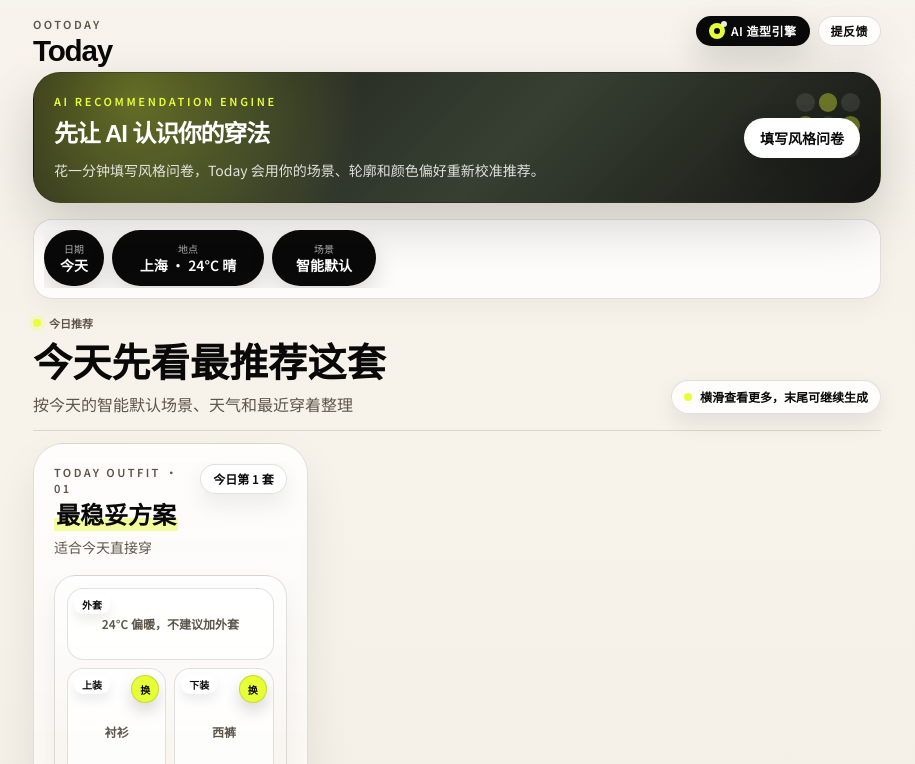
Test: TodayPage › refreshes recommendations for tomorrow without a page refresh
The image size is (915, 764).
Expected: the text "今日推荐" is shown, [33,315,93,331]
Click the button with aria-label "日期：今天": (74, 258) [44,230,104,286]
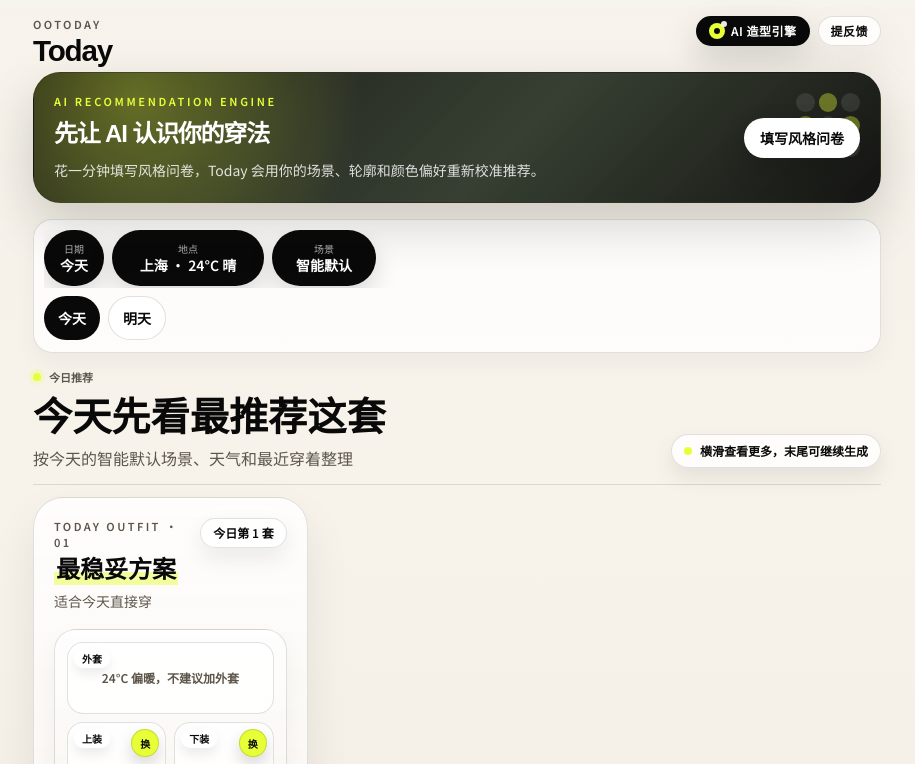
Click the button "明天": (137, 318) [108,296,166,340]
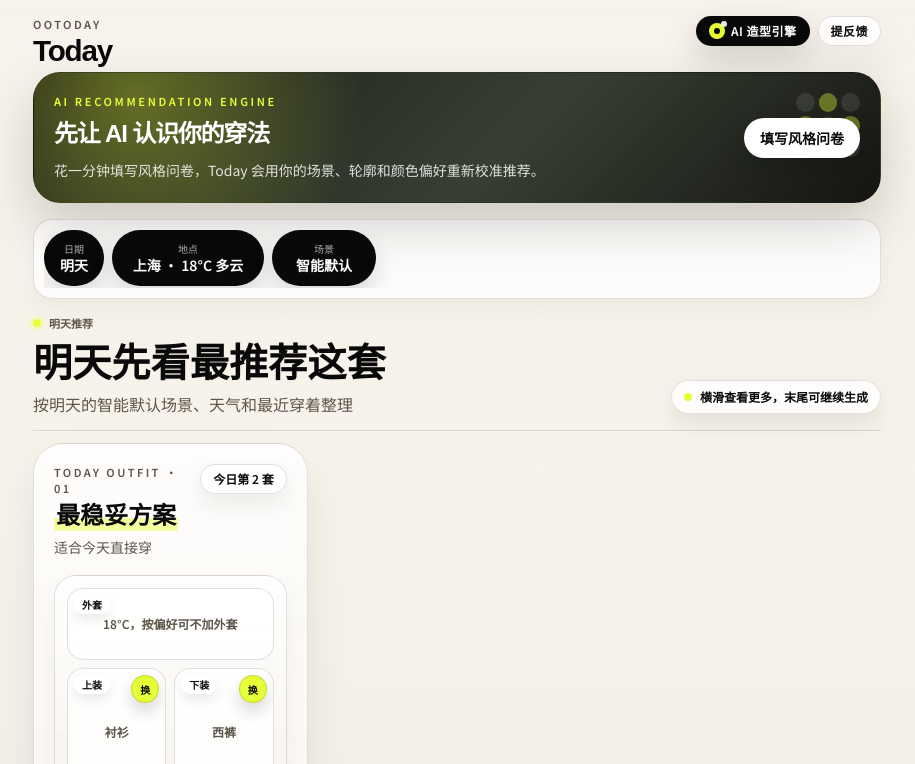
Result: the text "明天推荐" is shown at [33,315,93,331]
Result: the text "明天先看最推荐这套" is shown at [33,339,386,382]
Result: the button with aria-label "日期：明天" is shown at [44,230,104,286]
